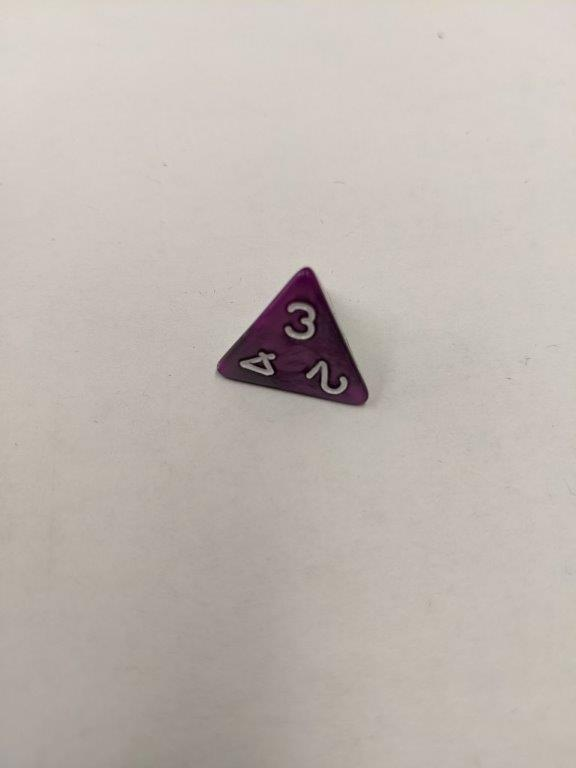d4-3: (212, 262, 371, 418)
